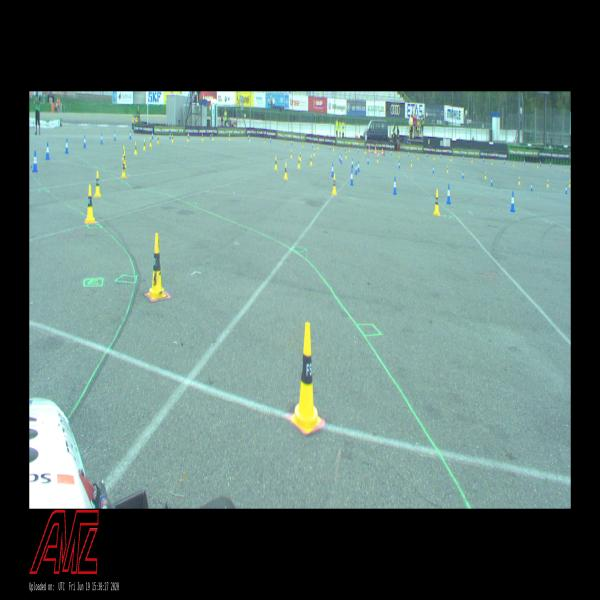blue_cone: (32, 150, 38, 172), (510, 192, 515, 212), (446, 185, 451, 204), (46, 141, 50, 160), (392, 177, 396, 194), (350, 170, 354, 185), (65, 138, 68, 154), (331, 163, 334, 177), (100, 133, 103, 144), (84, 135, 86, 148), (490, 178, 493, 186), (352, 157, 354, 168), (355, 163, 357, 174), (358, 161, 360, 172), (130, 130, 132, 139), (114, 132, 116, 141), (340, 155, 342, 164), (566, 186, 568, 194), (462, 171, 464, 179), (398, 160, 400, 168), (367, 156, 369, 164), (169, 132, 171, 139), (210, 132, 212, 139), (188, 132, 190, 139), (531, 183, 532, 191), (152, 131, 153, 139), (426, 153, 428, 157), (440, 154, 442, 158), (433, 166, 434, 173), (540, 160, 541, 166), (248, 134, 249, 140), (270, 136, 271, 142), (312, 142, 313, 148), (408, 151, 409, 156), (503, 159, 504, 164), (550, 162, 551, 167), (463, 155, 464, 160), (391, 150, 392, 155), (483, 157, 484, 162), (358, 148, 359, 152), (524, 160, 525, 164), (345, 147, 346, 151), (330, 145, 331, 149), (340, 152, 340, 160), (292, 140, 292, 144), (372, 149, 372, 153)
large_orange_cone: (368, 144, 370, 153), (375, 146, 376, 156), (382, 146, 383, 156)
yellow_cone: (290, 322, 321, 432), (148, 234, 166, 299), (85, 185, 96, 223), (94, 170, 102, 198), (433, 189, 440, 215), (121, 160, 126, 178), (332, 173, 336, 194), (122, 150, 126, 168), (284, 162, 288, 179), (122, 145, 126, 160), (274, 156, 278, 169), (134, 142, 137, 155), (143, 139, 146, 150), (149, 137, 152, 147), (310, 154, 312, 166), (298, 157, 300, 168), (484, 172, 487, 179), (157, 134, 159, 144), (290, 149, 292, 158), (518, 176, 520, 184), (187, 134, 189, 142), (547, 180, 549, 188), (313, 148, 315, 156), (568, 180, 570, 188), (345, 152, 347, 159), (202, 134, 204, 141), (212, 133, 214, 140), (364, 148, 366, 154), (433, 154, 435, 160), (302, 142, 304, 148), (300, 151, 301, 161), (398, 153, 400, 158), (378, 150, 380, 155), (172, 134, 173, 142), (284, 140, 286, 144), (411, 160, 412, 167), (447, 166, 448, 173), (377, 156, 378, 163), (250, 135, 251, 142), (451, 155, 452, 161), (333, 144, 334, 150), (349, 146, 350, 152), (229, 134, 230, 140), (265, 137, 266, 143), (537, 163, 538, 168), (513, 161, 514, 166), (491, 159, 492, 164), (565, 166, 566, 171), (471, 158, 472, 162), (418, 154, 418, 159), (318, 143, 318, 149)
